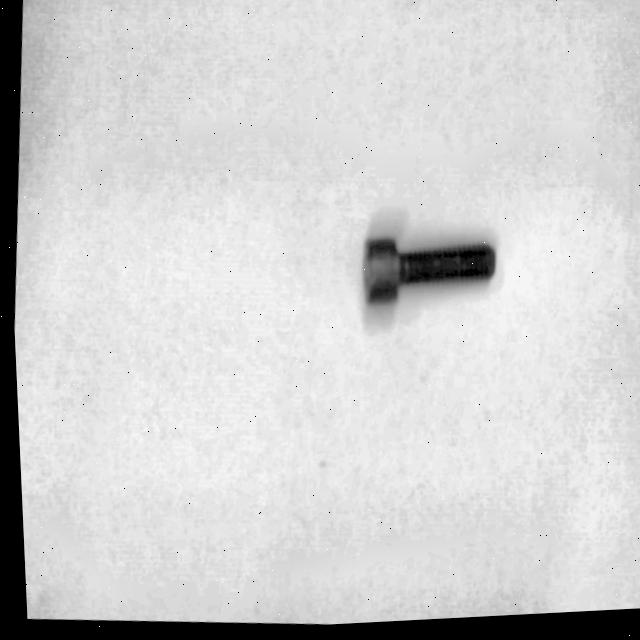Socket head cap screw: (354, 232, 498, 321)
